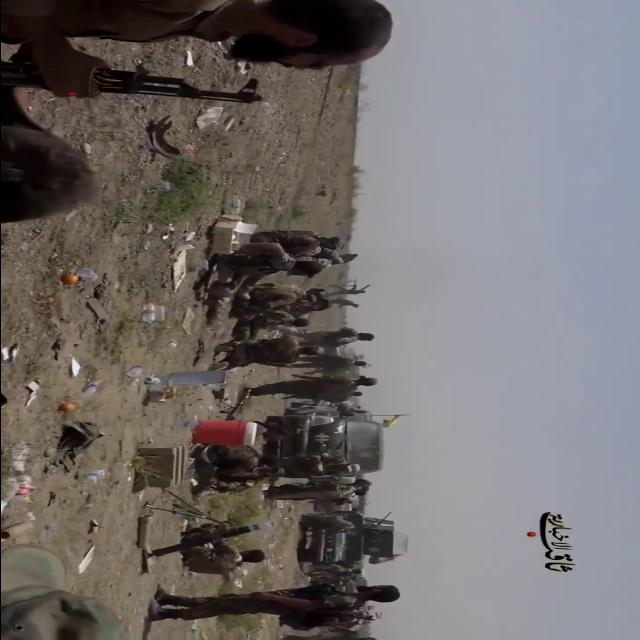long weapon: (1, 52, 283, 116)
